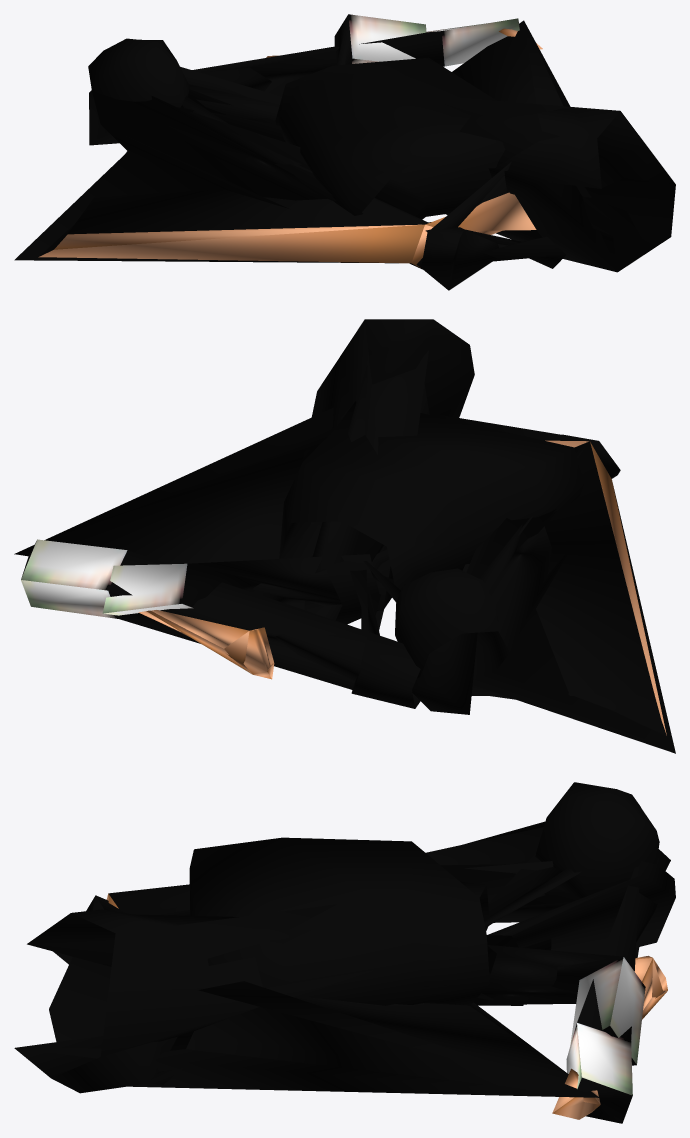
3 renders of one model, top to bottom at view 1: azimuth 30°, elevation 25°; view 2: azimuth 150°, elevation 25°; view 3: azimuth 270°, elevation 25°, orthographic. The views are drawn at different scales.
Parts seen in each view (by area): view 1: T1L1M004_20; view 2: T1L1M004_20; view 3: T1L1M004_20.
Part boxes in pixels (x1=…): T1L1M004_20: x1=14, y1=14, x2=675, y2=290; T1L1M004_20: x1=14, y1=319, x2=675, y2=753; T1L1M004_20: x1=14, y1=782, x2=675, y2=1123.
Size of the model in its own units: 1.48 by 0.4146 by 1.31.
